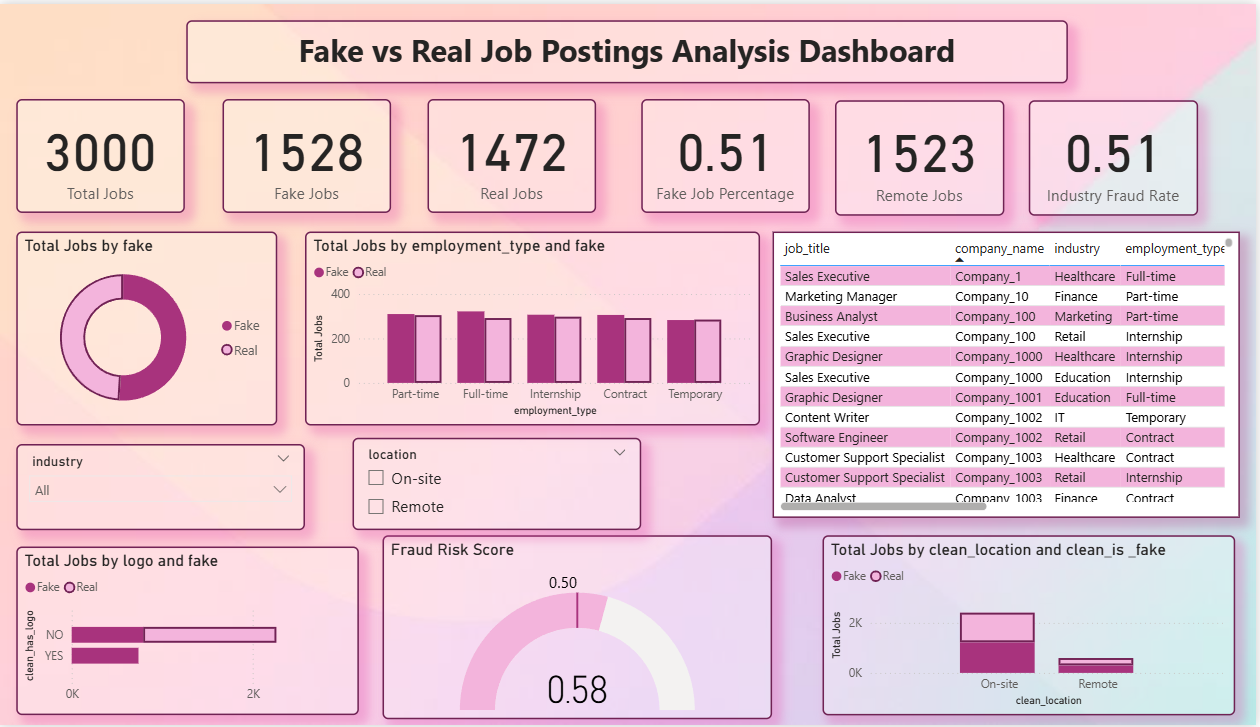

Layout of this report page (visuals, bound fields, positions):
{"tool":"powerbi","page":{"name":"Dashboard","canvas":[1305,750],"ordinal":0},"visuals":[{"type":"textbox","box":[193.3,16.4,916.1,65.7],"z":0},{"type":"card","fields":{"Values":["clean_data.Total Jobs"]},"box":[17.5,99.3,175.2,118.7],"z":1000},{"type":"card","fields":{"Values":["clean_data.Fake Jobs"]},"box":[231.6,99.3,175.2,118.7],"z":2000},{"type":"card","fields":{"Values":["clean_data.Real Jobs"]},"box":[443.8,99.3,175.2,118.7],"z":3000},{"type":"card","fields":{"Values":["clean_data.Fake Job Percentage"]},"box":[665.7,99.3,175.2,118.7],"z":4000},{"type":"card","fields":{"Values":["clean_data.Remote Jobs"]},"box":[868.1,99.8,175.6,120],"z":5000},{"type":"card","fields":{"Values":["clean_data.Industry Fraud Rate"]},"box":[1069,99.8,175.6,120],"z":6000},{"type":"donutChart","title":"Total Jobs by fake","fields":{"Category":["clean_data.clean_is _fake"],"Y":["clean_data.Total Jobs"]},"box":[16.9,236.4,271.4,201.3],"z":7000},{"type":"clusteredColumnChart","title":"Total Jobs by employment type and fake","fields":{"Category":["clean_data.employment_type"],"Y":["clean_data.Total Jobs"],"Series":["clean_data.clean_is _fake"]},"box":[316.9,236.4,472.7,201.3],"z":8000},{"type":"barChart","title":"Total Jobs by logo and fake","fields":{"Category":["clean_data.clean_has_logo"],"Y":["clean_data.Total Jobs"],"Series":["clean_data.clean_is _fake"]},"box":[16.9,563.6,355.8,175.3],"z":9000},{"type":"columnChart","title":"Total Jobs by location and fake","fields":{"Category":["clean_data.clean_location"],"Y":["clean_data.Total Jobs"],"Series":["clean_data.clean_is _fake"]},"box":[854.5,551.9,428.6,187],"z":10000},{"type":"tableEx","fields":{"Values":["clean_data.job_title","clean_data.company_name","clean_data.industry","clean_data.employment_type","clean_data.location","clean_data.clean_has_logo","clean_data.clean_telecommuting","clean_data.clean_email","clean_data.clean_is _fake"]},"box":[802.6,236.4,485.7,297.4],"z":11000},{"type":"gauge","title":"Fraud Risk Score","fields":{"Y":["clean_data.Fraud Risk Score"],"MinValue":["clean_data.zero"],"MaxValue":["clean_data.one"],"TargetValue":["clean_data.target value"]},"box":[397.4,551.9,405.2,190.9],"z":12000},{"type":"slicer","fields":{"Values":["clean_data.industry"]},"box":[16.9,457.1,300,89.6],"z":13000},{"type":"slicer","fields":{"Values":["clean_data.clean_location"]},"box":[366.2,450.6,300,96.1],"z":14000}]}

Visuals, with their boxes in screenshot pixels (x1, y1, x2, y2), scaled from the page's 1305x750 canvas onto the 1260x727 screenshot:
textbox: x1=187 y1=16 x2=1071 y2=80
card - clean_data.Total Jobs: x1=17 y1=96 x2=186 y2=211
card - clean_data.Fake Jobs: x1=224 y1=96 x2=393 y2=211
card - clean_data.Real Jobs: x1=428 y1=96 x2=598 y2=211
card - clean_data.Fake Job Percentage: x1=643 y1=96 x2=812 y2=211
card - clean_data.Remote Jobs: x1=838 y1=97 x2=1008 y2=213
card - clean_data.Industry Fraud Rate: x1=1032 y1=97 x2=1202 y2=213
"Total Jobs by fake" donutChart: x1=16 y1=229 x2=278 y2=424
"Total Jobs by employment type and fake" clusteredColumnChart: x1=306 y1=229 x2=762 y2=424
"Total Jobs by logo and fake" barChart: x1=16 y1=546 x2=360 y2=716
"Total Jobs by location and fake" columnChart: x1=825 y1=535 x2=1239 y2=716
tableEx - clean_data.job_title x clean_data.company_name: x1=775 y1=229 x2=1244 y2=517
"Fraud Risk Score" gauge: x1=384 y1=535 x2=775 y2=720
slicer - clean_data.industry: x1=16 y1=443 x2=306 y2=530
slicer - clean_data.clean_location: x1=354 y1=437 x2=643 y2=530
